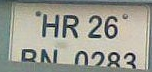2: (88, 15, 102, 39)
6: (104, 15, 119, 39)
H: (42, 13, 60, 39)
R: (62, 13, 80, 39)
